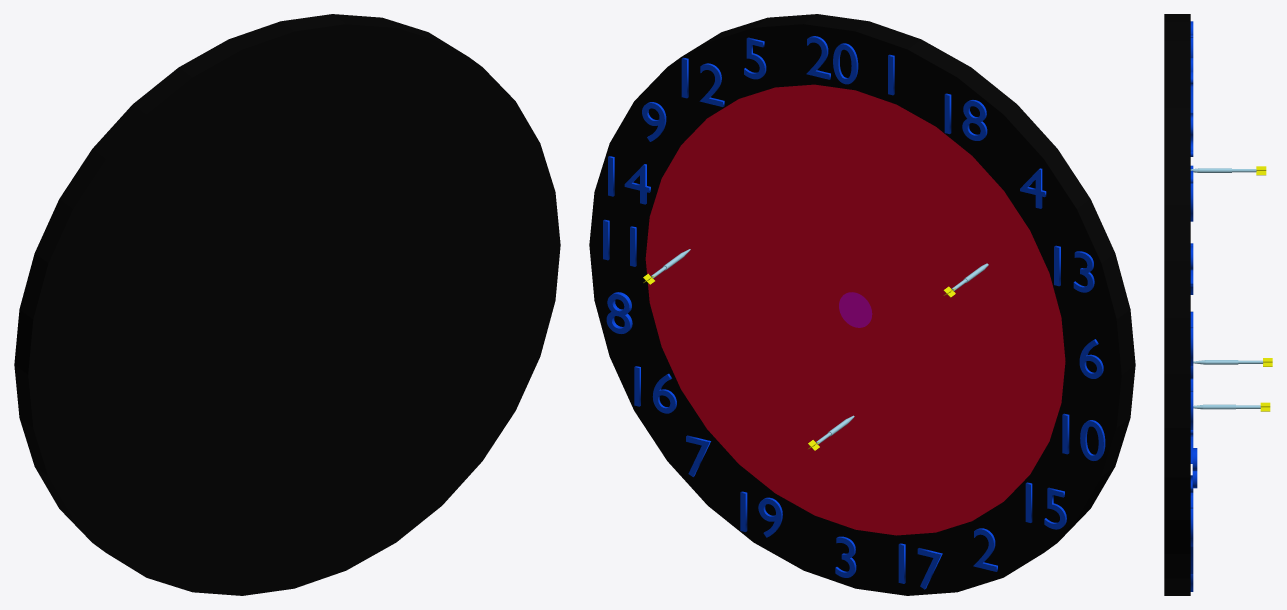
Rendered from Dartboard.fbx.
3 renders of one model, left to right at view 1: azimuth 30°, elevation 25°; view 2: azimuth 150°, elevation 25°; view 3: azimuth 270°, elevation 25°, orthographic. The views are drawn at different scales.
Parts seen in each view (by area): view 1: Text.001; view 2: Text.001; view 3: Text.001.
Part boxes in pixels (x1,y1,x2,y2): Text.001: (14, 14, 560, 595); Text.001: (589, 14, 1135, 595); Text.001: (1164, 14, 1272, 595).
Bounding box in the file's own units: 285 × 285 × 53.07.
